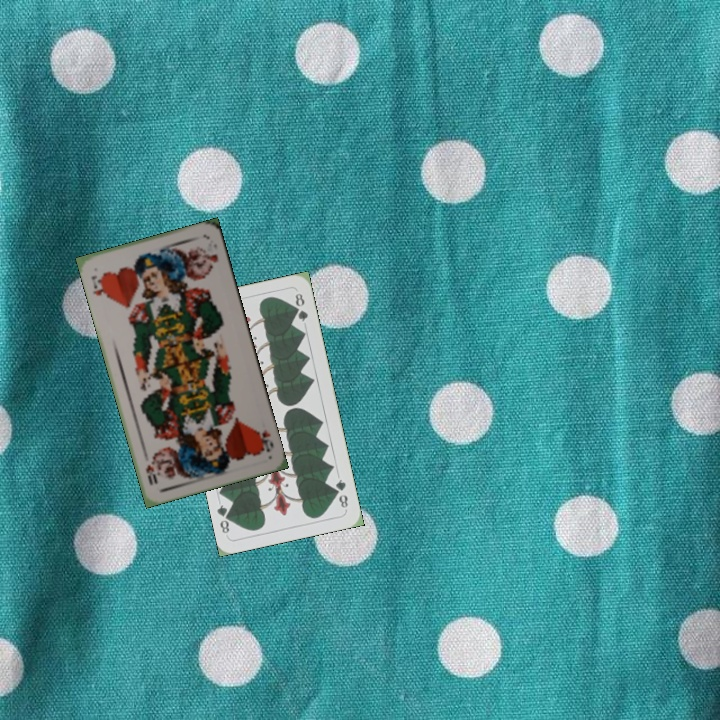G8: (331, 475, 350, 512)
HO: (252, 425, 276, 455), (87, 271, 110, 301)
